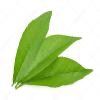Peach leaf: (10, 33, 82, 82), (11, 8, 53, 84), (12, 55, 95, 93)
